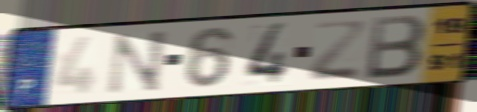4: (241, 20, 292, 89), (52, 33, 101, 98)
6: (183, 25, 236, 91)
B: (363, 13, 429, 82)
N: (103, 28, 169, 97)
Z: (306, 20, 370, 83)
